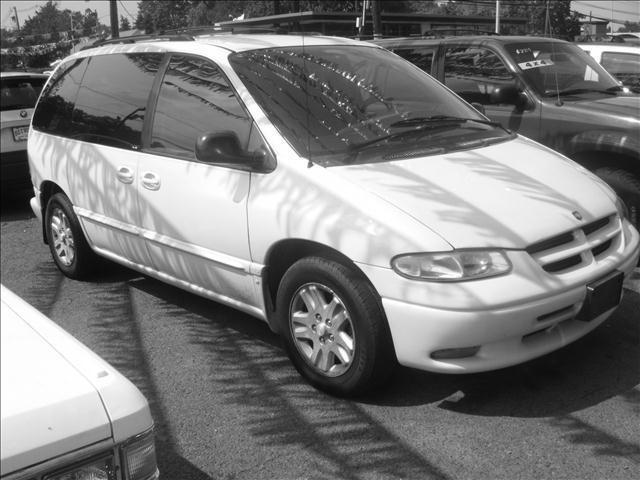car: (27, 35, 639, 402)
